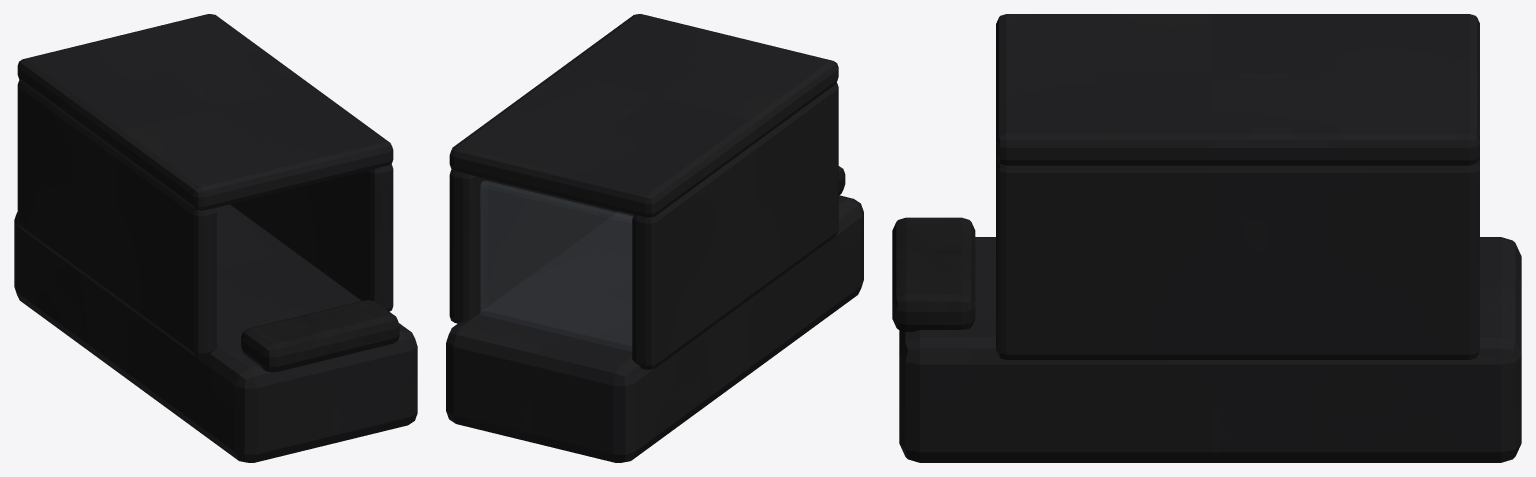
File: sight_holo.glb
3 renders of one model, left to right at view 1: azimuth 30°, elevation 25°; view 2: azimuth 150°, elevation 25°; view 3: azimuth 270°, elevation 25°, orthographic. The views are drawn at different scales.
Visible parts, largest first — view 1: housing, hood_top, hood_side-1, hood_side1, buttons; view 2: housing, hood_top, hood_side-1, window_f, hood_side1; view 3: hood_side1, housing, hood_top, buttons.
Boxes of the visible parts, x1,y1,x2,y2 form: housing: (14,204,417,462); hood_top: (17,14,393,210); hood_side-1: (17,80,216,357); hood_side1: (230,164,393,311); buttons: (241,300,399,372); housing: (446,195,863,462); hood_top: (449,14,838,217); hood_side-1: (632,83,838,369); window_f: (480,181,632,345); hood_side1: (449,169,618,323); hood_side1: (996,160,1479,359); housing: (899,237,1521,462); hood_top: (996,14,1479,165); buttons: (892,217,975,331).
Bounding box in the file's own units: 0.044 × 0.054 × 0.091.
Materials: 3 (2 with a texture image).
